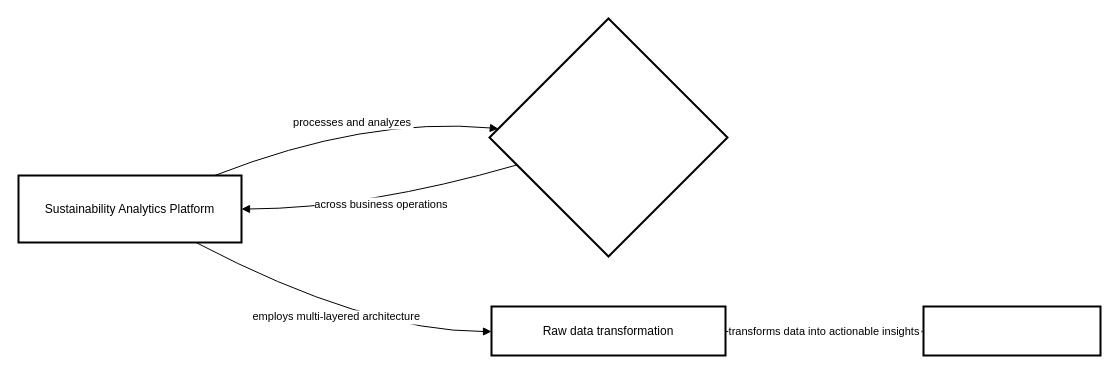
The diagram is 1118 pixels wide and 373 high, and some of its shapes have lost their labels. The shapes that lost their labels are listed below. From the top down, each one's box as (x1, y1, x2, y2) in pixels, then its label:
(488, 17, 728, 257): Environmental impact data
(922, 305, 1101, 356): Decision making
